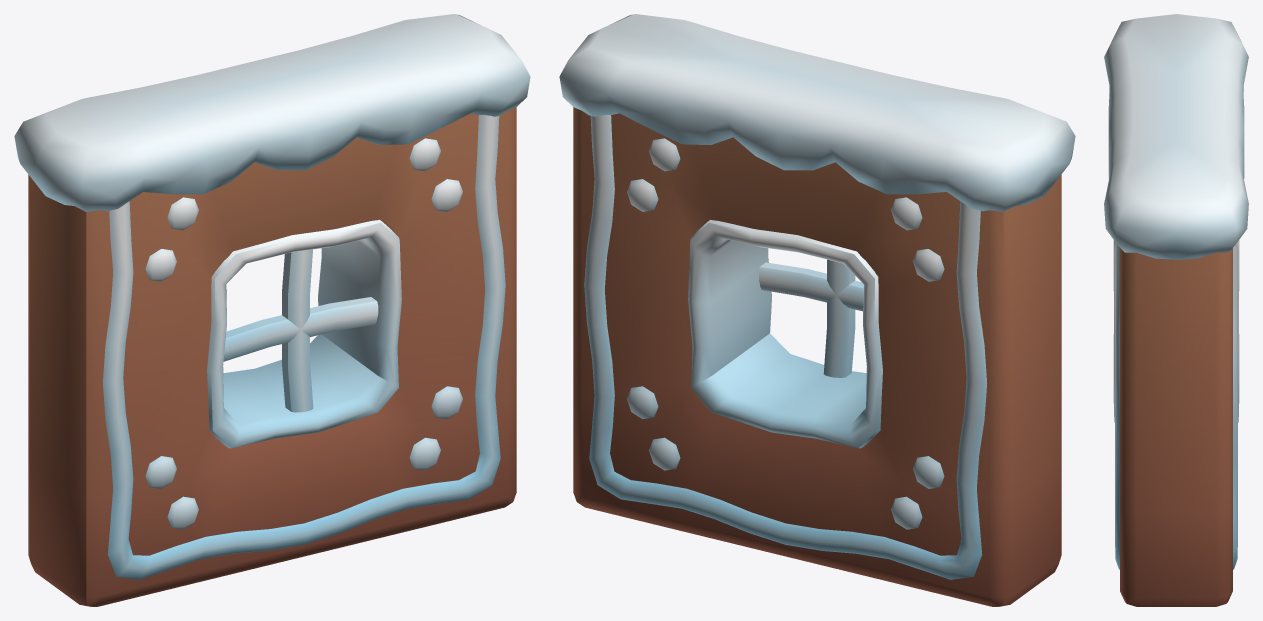
File: wall_gingerbread_window_B.obj
3 renders of one model, left to right at view 1: azimuth 30°, elevation 25°; view 2: azimuth 150°, elevation 25°; view 3: azimuth 270°, elevation 25°, orthographic. The views are drawn at different scales.
Parts seen in each view (by area): view 1: wall_gingerbread_window_B; view 2: wall_gingerbread_window_B; view 3: wall_gingerbread_window_B.
Part boxes in pixels (<box>): wall_gingerbread_window_B: <box>14,14,530,606</box>; wall_gingerbread_window_B: <box>559,14,1075,606</box>; wall_gingerbread_window_B: <box>1104,14,1248,606</box>.
Size of the model in its own units: 4.28 by 4 by 1.28.
1 material, 1 textured.
